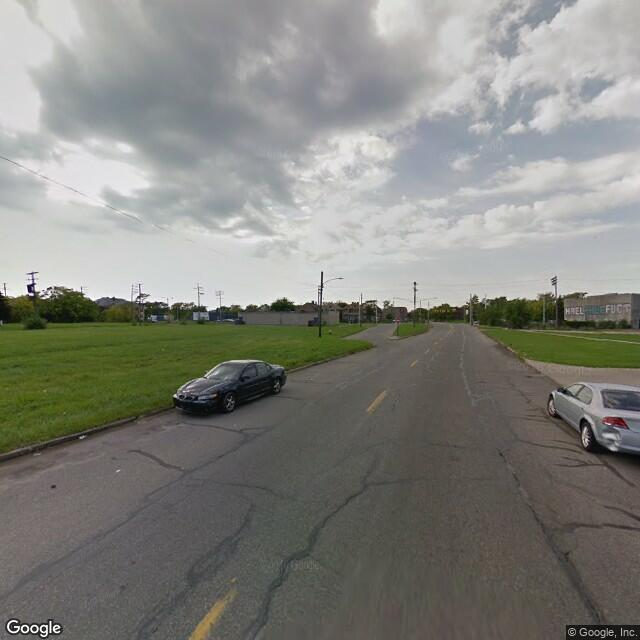litter: (76, 433, 88, 441), (31, 450, 42, 458)
